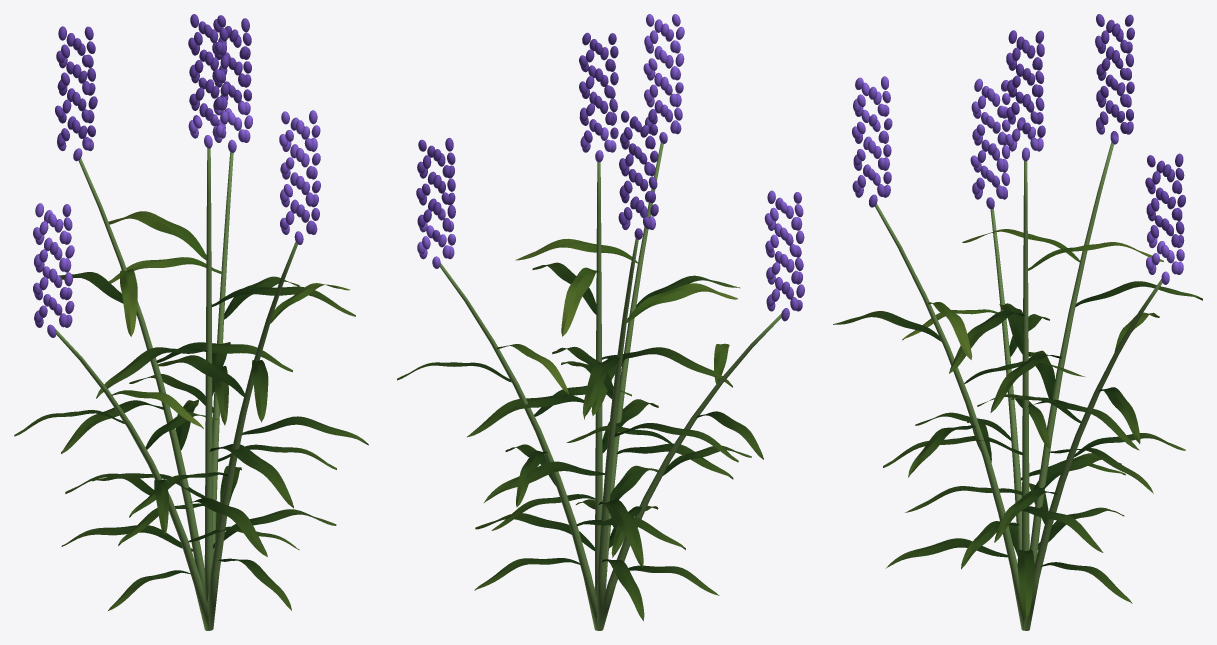
Rendered from lavender-08.glb.
3 views of the same model, side by side, from view 1: azimuth 30°, elevation 25°; view 2: azimuth 150°, elevation 25°; view 3: azimuth 270°, elevation 25° (orthographic). The views are drawn at different scales.
Parts seen in each view (by area): view 1: lavender_stage_08_leaf_veins.014, lavender_stage_08_lavender_petal.014, lavender_stage_08_stem_fibres.014, lavender_stage_08_young_leaf.014; view 2: lavender_stage_08_leaf_veins.014, lavender_stage_08_lavender_petal.014, lavender_stage_08_stem_fibres.014, lavender_stage_08_young_leaf.014; view 3: lavender_stage_08_leaf_veins.014, lavender_stage_08_lavender_petal.014, lavender_stage_08_stem_fibres.014, lavender_stage_08_young_leaf.014.
Boxes of the visible parts, <box> form: lavender_stage_08_leaf_veins.014: <box>14,272,368,610</box>; lavender_stage_08_lavender_petal.014: <box>33,14,320,337</box>; lavender_stage_08_stem_fibres.014: <box>55,148,297,630</box>; lavender_stage_08_young_leaf.014: <box>108,211,350,428</box>; lavender_stage_08_leaf_veins.014: <box>397,262,763,620</box>; lavender_stage_08_lavender_petal.014: <box>416,14,804,321</box>; lavender_stage_08_stem_fibres.014: <box>440,142,781,630</box>; lavender_stage_08_young_leaf.014: <box>497,238,737,394</box>; lavender_stage_08_leaf_veins.014: <box>833,281,1202,619</box>; lavender_stage_08_lavender_petal.014: <box>852,14,1185,284</box>; lavender_stage_08_stem_fibres.014: <box>875,142,1162,630</box>; lavender_stage_08_young_leaf.014: <box>902,229,1163,359</box>.
Size of the model in its own units: 0.3472 by 0.5964 by 0.3359.
Materials: 4 (3 with a texture image).
